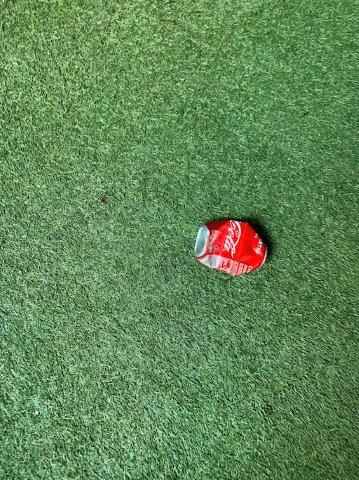kaleng: (196, 220, 267, 275)
